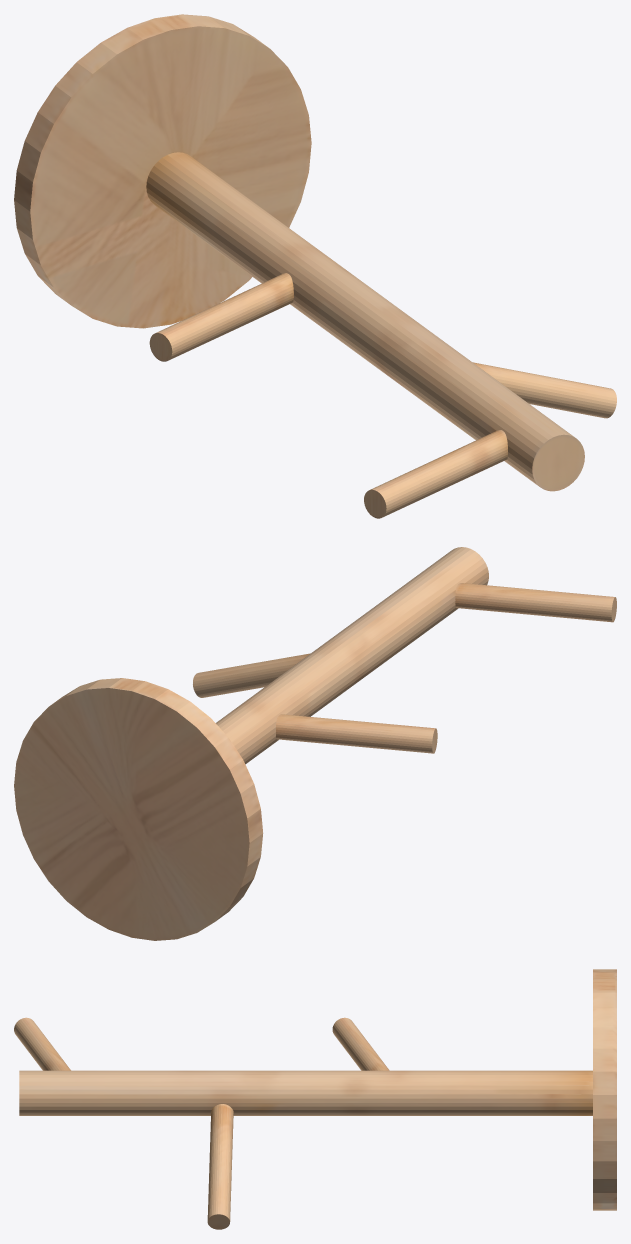
The model's file is stand_visual.obj.
3 renders of one model, top to bottom at view 1: azimuth 30°, elevation 25°; view 2: azimuth 150°, elevation 25°; view 3: azimuth 270°, elevation 25°, orthographic. The views are drawn at different scales.
Bounding box in the file's own units: 0.2184 × 0.165 × 0.412.
Materials: 1 (1 with a texture image).
